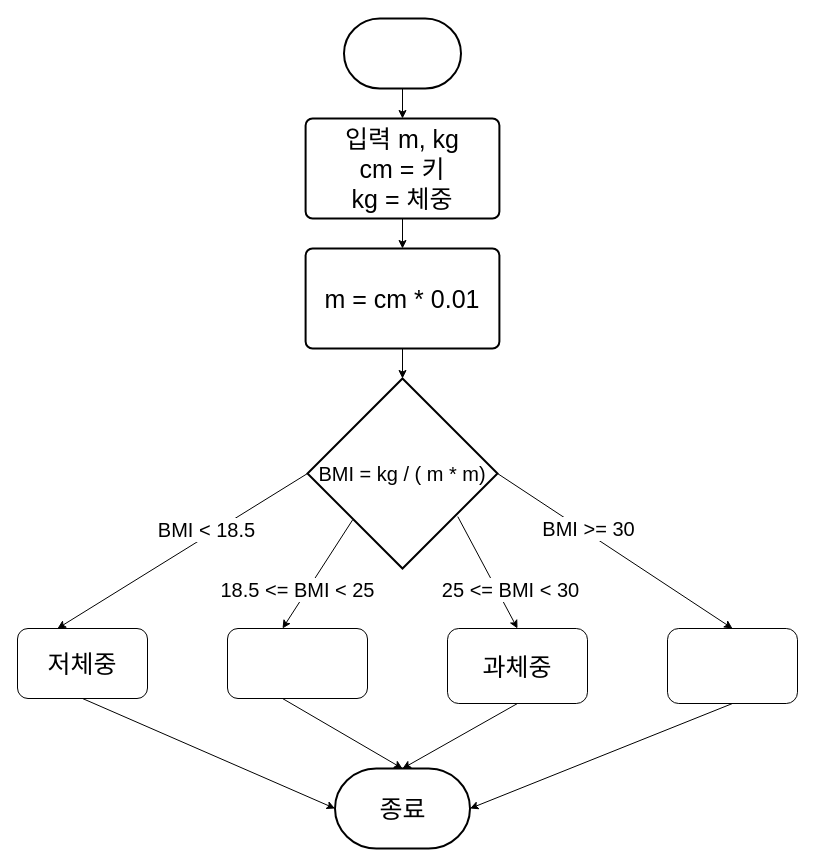
Image size: 815x866. Some labels were removed from this diagram. Each missing label, with the centre of its shape:
"비만" belongs at pixel 732 666.
"시작" belongs at pixel 402 53.
"정상" belongs at pixel 297 663.
